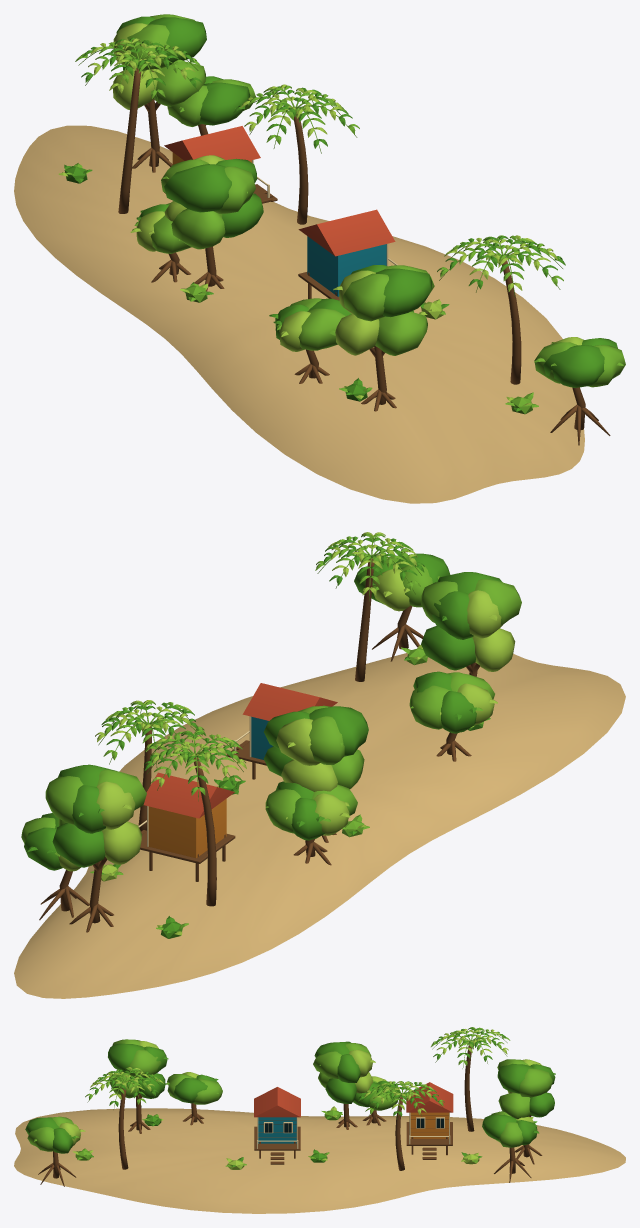
Rendered from shore-study-v4.glb.
3 views of the same model, one above another, from view 1: azimuth 30°, elevation 25°; view 2: azimuth 150°, elevation 25°; view 3: azimuth 270°, elevation 25° (orthographic). The views are drawn at different scales.
Parts seen in each view (by area): view 1: Study warm sand, Study foliage 1, Study foliage 0, Study foliage 2, Study warm wood, Study coral roof, Study turquoise house; view 2: Study warm sand, Study foliage 0, Study foliage 1, Study foliage 2, Study warm wood, Study coral roof, Study ochre house, Study turquoise house; view 3: Study warm sand, Study foliage 0, Study foliage 1, Study warm wood, Study foliage 2, Study coral roof, Study turquoise house, Study ochre house, Study ivory trim, Study window shade.
Boxes of the visible parts, x1=… form: Study warm sand: x1=14, y1=125, x2=584, y2=503; Study foliage 1: x1=65, y1=14, x2=625, y2=414; Study foliage 0: x1=64, y1=16, x2=617, y2=411; Study foliage 2: x1=58, y1=23, x2=584, y2=405; Study warm wood: x1=118, y1=68, x2=610, y2=445; Study coral roof: x1=164, y1=126, x2=395, y2=256; Study turquoise house: x1=307, y1=236, x2=386, y2=296; Study warm sand: x1=14, y1=653, x2=625, y2=998; Study foliage 0: x1=24, y1=535, x2=502, y2=938; Study foliage 1: x1=21, y1=533, x2=521, y2=930; Study foliage 2: x1=58, y1=532, x2=515, y2=935; Study warm wood: x1=39, y1=558, x2=480, y2=932; Study coral roof: x1=143, y1=683, x2=337, y2=818; Study ochre house: x1=148, y1=798, x2=226, y2=858; Study turquoise house: x1=251, y1=716, x2=272, y2=759; Study warm sand: x1=14, y1=1108, x2=625, y2=1213; Study foliage 0: x1=25, y1=1027, x2=555, y2=1166; Study foliage 1: x1=27, y1=1027, x2=552, y2=1166; Study warm wood: x1=38, y1=1043, x2=542, y2=1186; Study foliage 2: x1=59, y1=1028, x2=541, y2=1169; Study coral roof: x1=254, y1=1082, x2=453, y2=1117; Study turquoise house: x1=258, y1=1117, x2=296, y2=1143; Study ochre house: x1=410, y1=1112, x2=448, y2=1138; Study ivory trim: x1=256, y1=1112, x2=450, y2=1148; Study window shade: x1=265, y1=1118, x2=443, y2=1132.
Bounding box in the file's own units: 18.05 × 8.9 × 44.23.
